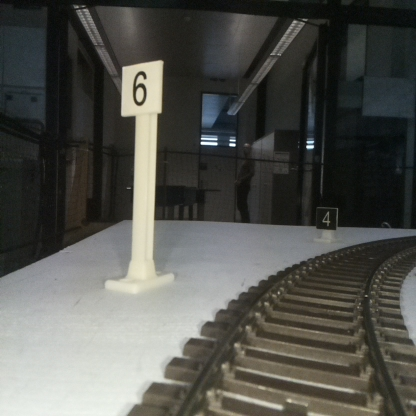black-stop-4: (316, 206, 337, 242)
white-info-6: (122, 62, 162, 288)
